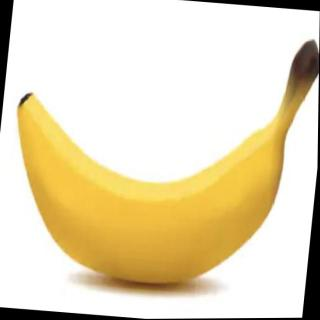banana: (0, 88, 291, 298)
